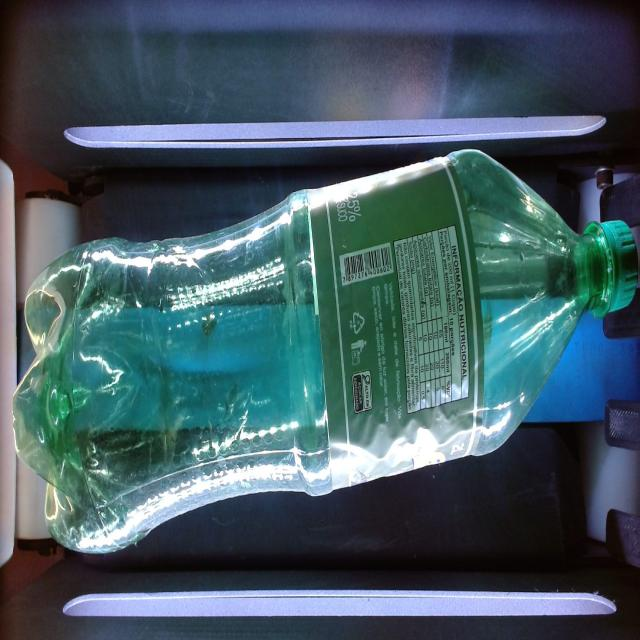bottle: (14, 151, 639, 553)
